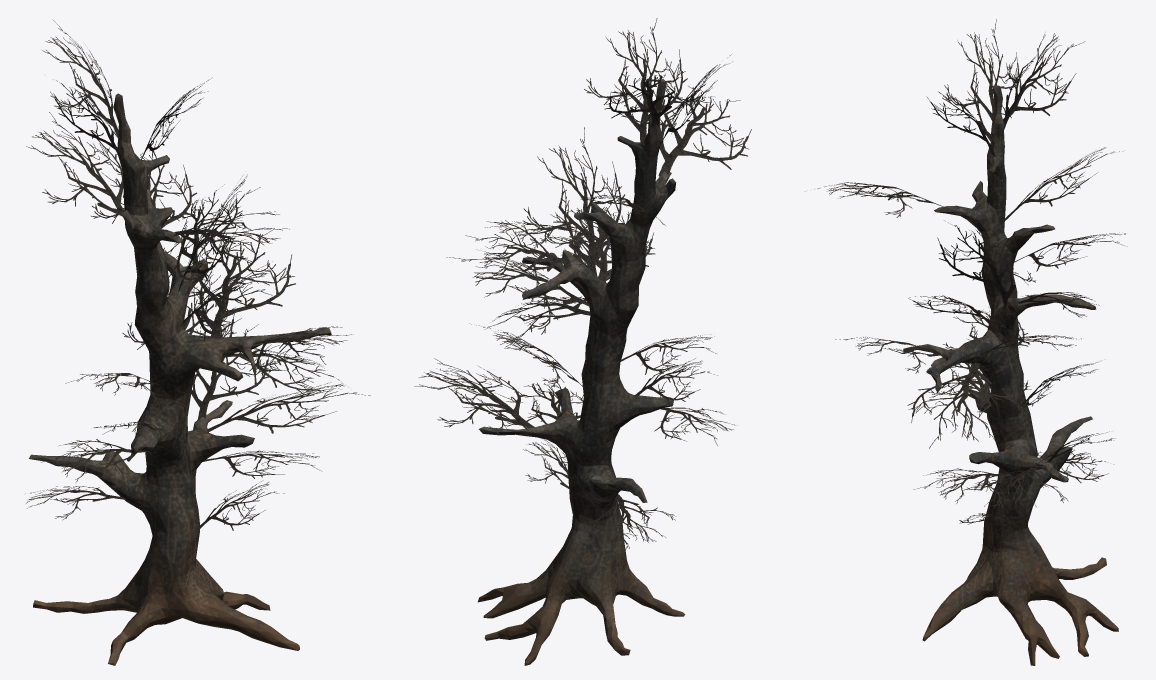
Rendered from tree1.glb.
3 views of the same model, side by side, from view 1: azimuth 30°, elevation 25°; view 2: azimuth 150°, elevation 25°; view 3: azimuth 270°, elevation 25° (orthographic). The views are drawn at different scales.
Parts seen in each view (by area): view 1: Model__tree1, Model__branches; view 2: Model__tree1, Model__branches; view 3: Model__tree1, Model__branches.
Boxes of the visible parts, x1=… form: Model__tree1: x1=29, y1=93, x2=331, y2=665; Model__branches: x1=25, y1=20, x2=370, y2=530; Model__tree1: x1=478, y1=79, x2=685, y2=665; Model__branches: x1=414, y1=18, x2=751, y2=555; Model__tree1: x1=903, y1=85, x2=1118, y2=665; Model__branches: x1=814, y1=19, x2=1127, y2=528.
Size of the model in its own units: 3.07 by 5.48 by 3.09.
Materials: 2 (2 with a texture image).
